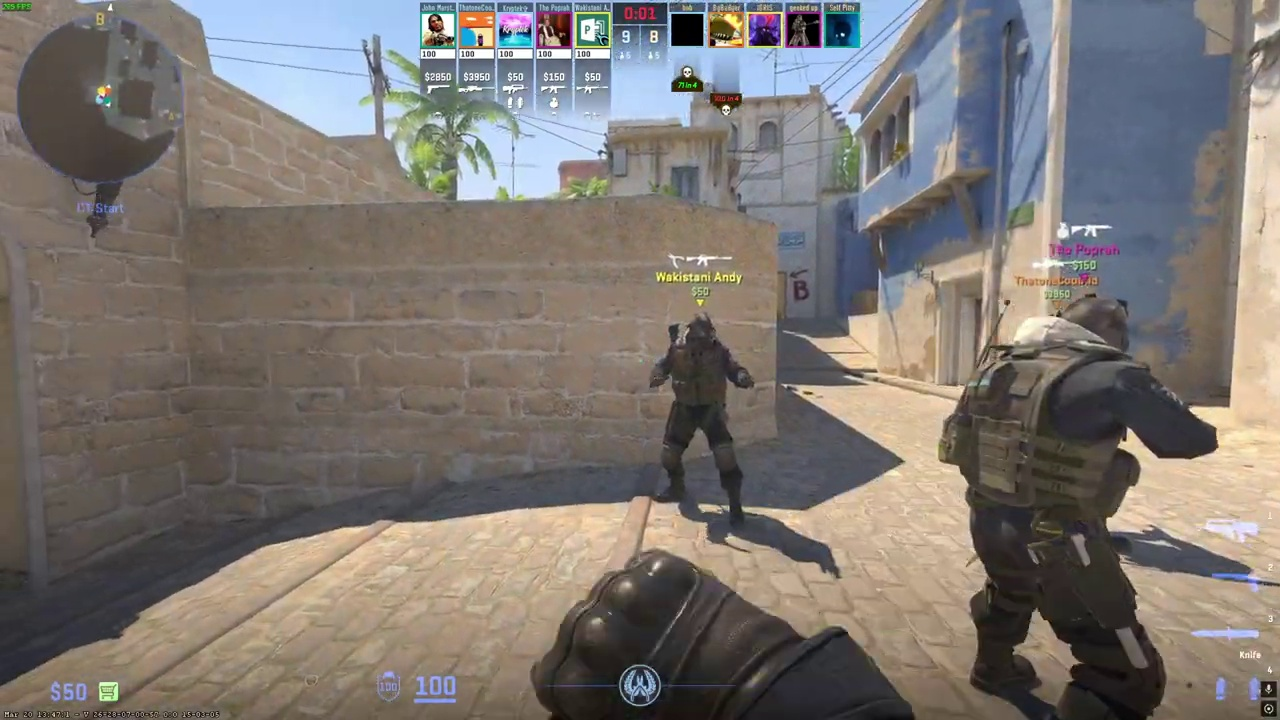CT: (953, 297, 1191, 720), (654, 313, 750, 528)
